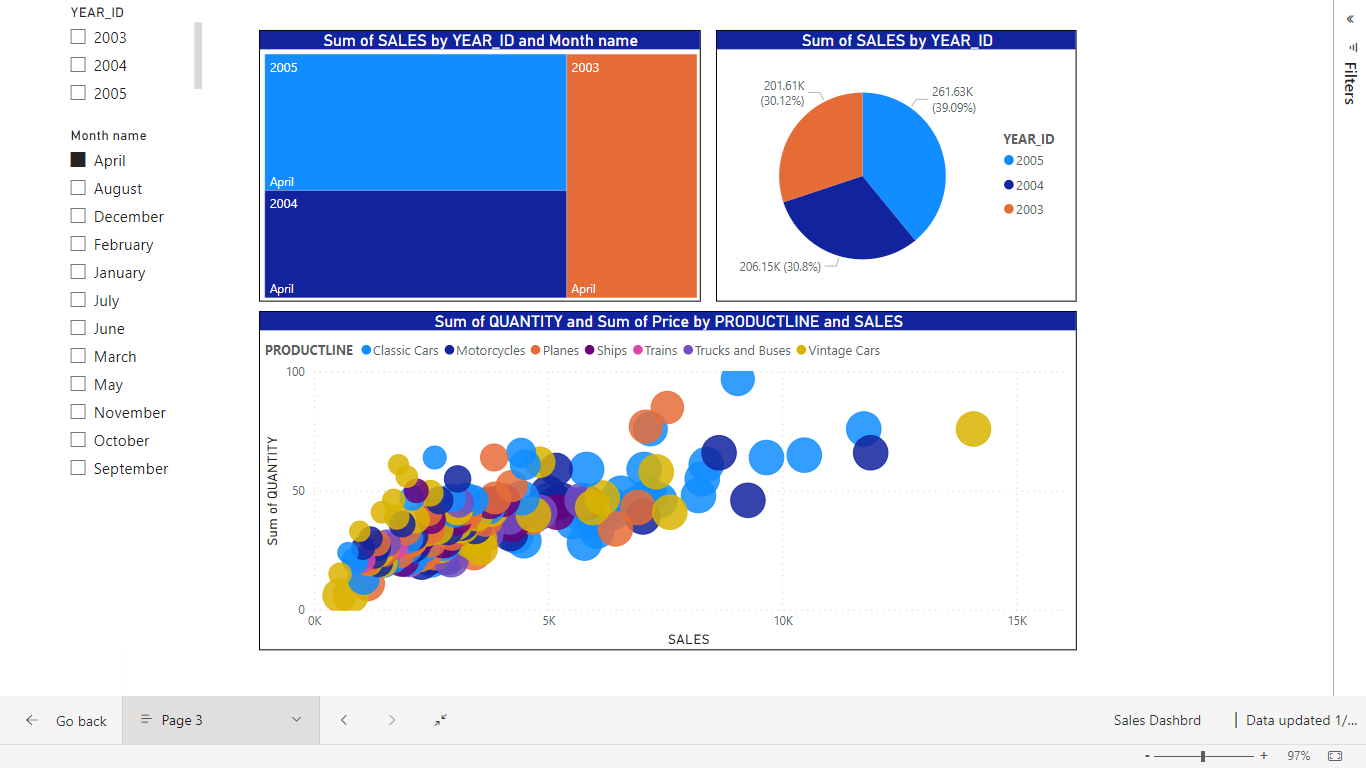

The page's visual inventory and layout, read from the dashboard file:
{"tool":"powerbi","page":{"name":"Page 3","canvas":[1280,720],"ordinal":2},"visuals":[{"type":"slicer","fields":{"Values":["sales_data_sample.YEAR_ID"]},"box":[10.8,0,153.7,109.1],"z":0},{"type":"slicer","fields":{"Values":["sales_data_sample.Month name"]},"box":[10.8,127.5,153.7,388.8],"z":1000},{"type":"treemap","fields":{"Values":["Sum(sales_data_sample.SALES)"],"Group":["sales_data_sample.YEAR_ID"],"Details":["sales_data_sample.Month name"]},"box":[218,30.7,456.6,281],"z":2000},{"type":"pieChart","fields":{"Category":["sales_data_sample.YEAR_ID"],"Y":["Sum(sales_data_sample.SALES)"]},"box":[690.7,30.7,373.2,281],"z":3000},{"type":"scatterChart","fields":{"X":["sales_data_sample.SALES"],"Series":["sales_data_sample.PRODUCTLINE"],"Y":["Sum(sales_data_sample.QUANTITY)"],"Size":["Sum(sales_data_sample.Price)"]},"box":[218.6,321.4,845.7,351.4],"z":4000}]}

Visuals, with their boxes on the page's 1280x720 design canvas (x1, y1, x2, y2). These are canvas units, not pixel positions in the 1366x768 screenshot, which may show the page scaled, cropped or inside an application window:
slicer - sales_data_sample.YEAR_ID: bbox=[11, 0, 164, 109]
slicer - sales_data_sample.Month name: bbox=[11, 128, 164, 516]
treemap - Sum(sales_data_sample.SALES) x sales_data_sample.YEAR_ID: bbox=[218, 31, 675, 312]
pieChart - sales_data_sample.YEAR_ID x Sum(sales_data_sample.SALES): bbox=[691, 31, 1064, 312]
scatterChart - sales_data_sample.SALES x sales_data_sample.PRODUCTLINE: bbox=[219, 321, 1064, 673]
